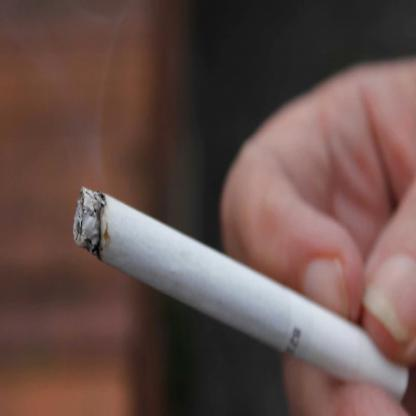cigarette: (68, 181, 408, 400)
